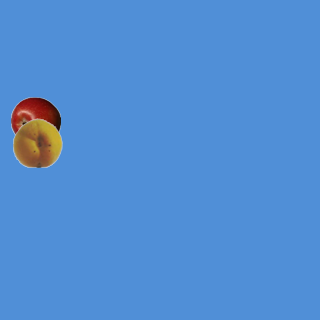Apple Braeburn: (10, 96, 60, 146)
Peach 2: (12, 117, 62, 167)
